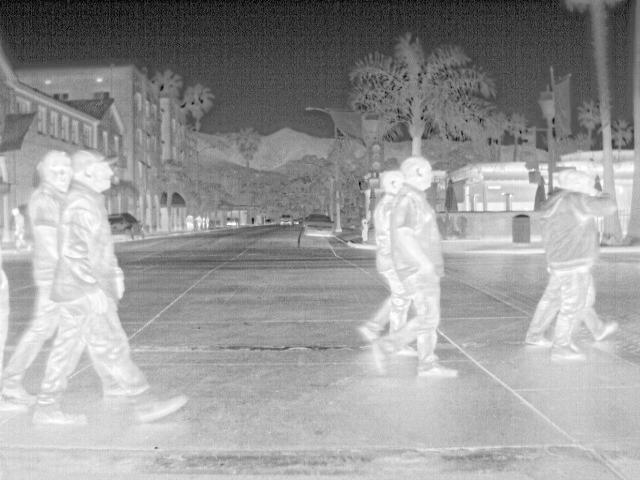car: (108, 212, 148, 241), (302, 213, 336, 239), (280, 214, 295, 227)
person: (29, 150, 188, 427), (372, 154, 458, 378), (2, 149, 71, 403), (533, 167, 617, 362), (356, 167, 410, 345), (9, 207, 29, 253)
